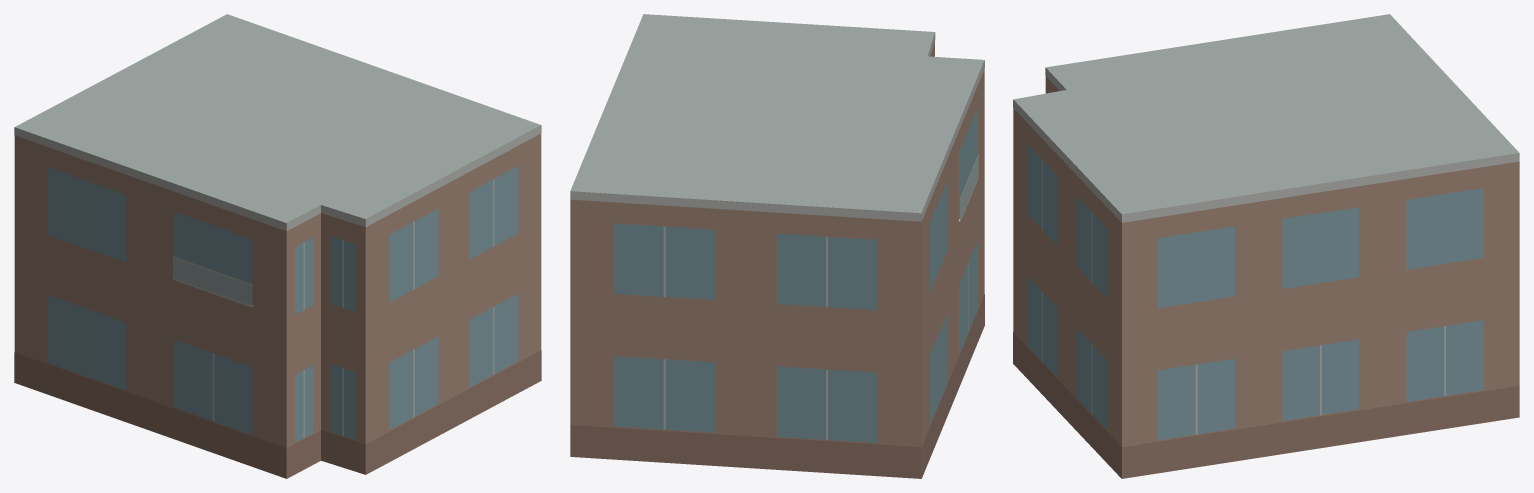
File: survey-upis-32768350.glb
The picture shows the model from 3 angles, left to right: view 1: azimuth 30°, elevation 25°; view 2: azimuth 150°, elevation 25°; view 3: azimuth 270°, elevation 25°; orthographic projection. The views are drawn at different scales.
Parts seen in each view (by area): view 1: survey-upis-32768350.tmp; view 2: survey-upis-32768350.tmp; view 3: survey-upis-32768350.tmp.
Part boxes in pixels (x1,y1,x2,y2): survey-upis-32768350.tmp: (14, 14, 541, 478); survey-upis-32768350.tmp: (570, 14, 984, 478); survey-upis-32768350.tmp: (1013, 14, 1519, 478).
Bounding box in the file's own units: 12.54 × 7.7 × 13.38.
